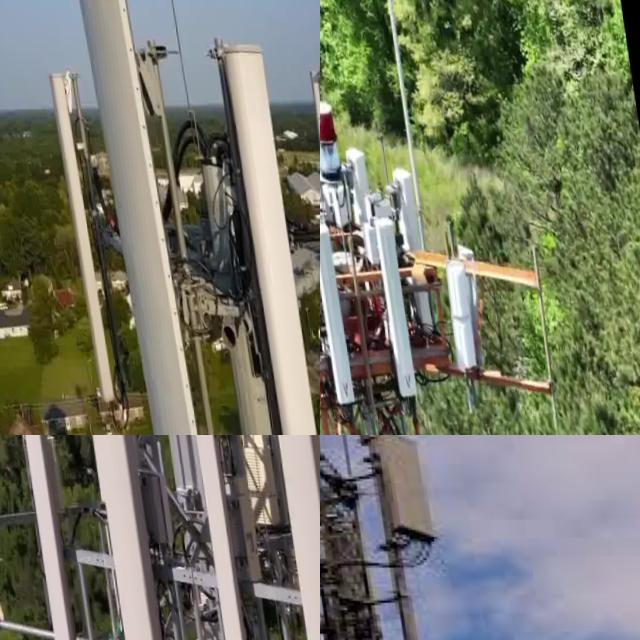GSM Antenna: (66, 0, 220, 435), (209, 17, 320, 435), (36, 59, 125, 406), (70, 435, 182, 640), (12, 435, 80, 640), (364, 197, 427, 410), (256, 435, 320, 640), (358, 435, 440, 546), (142, 435, 215, 558), (320, 202, 358, 406), (432, 236, 485, 367), (300, 45, 320, 387)
